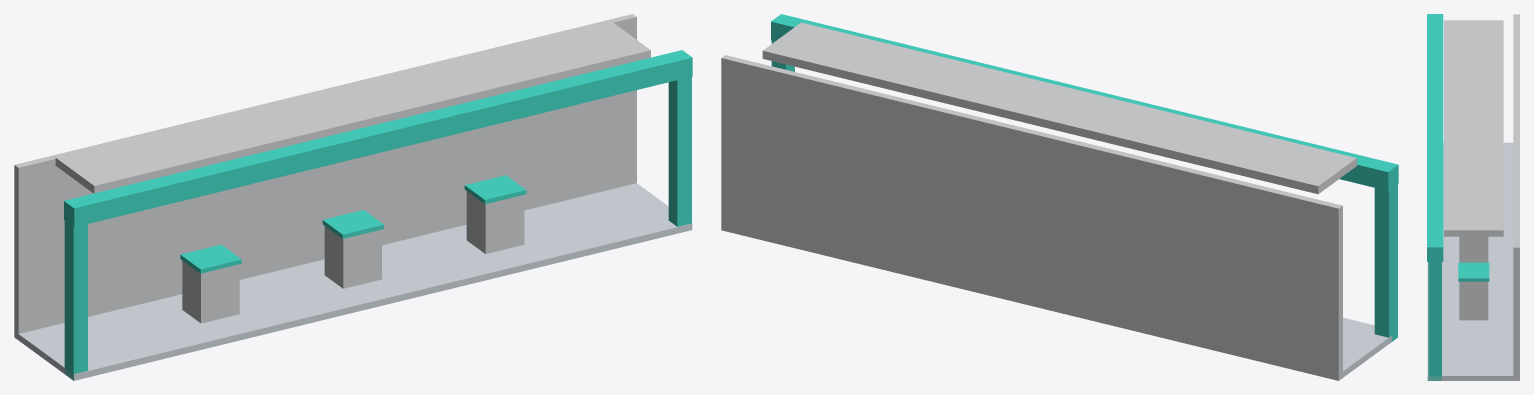
3 views of the same model, side by side, from view 1: azimuth 30°, elevation 25°; view 2: azimuth 150°, elevation 25°; view 3: azimuth 270°, elevation 25° (orthographic). The views are drawn at different scales.
Visible parts, largest first — view 1: Exhibition Booth Concept; view 2: Exhibition Booth Concept; view 3: Exhibition Booth Concept.
Boxes of the visible parts, x1,y1,x2,y2 form: Exhibition Booth Concept: (14,14,692,380); Exhibition Booth Concept: (721,14,1398,380); Exhibition Booth Concept: (1427,14,1519,380).
Bounding box in the file's own units: 12 × 3.34 × 2.01.
